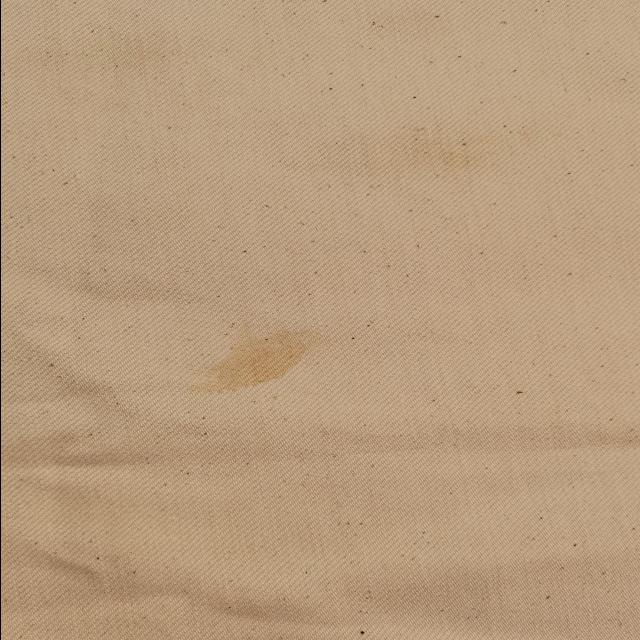taaaches: (183, 327, 339, 400)
